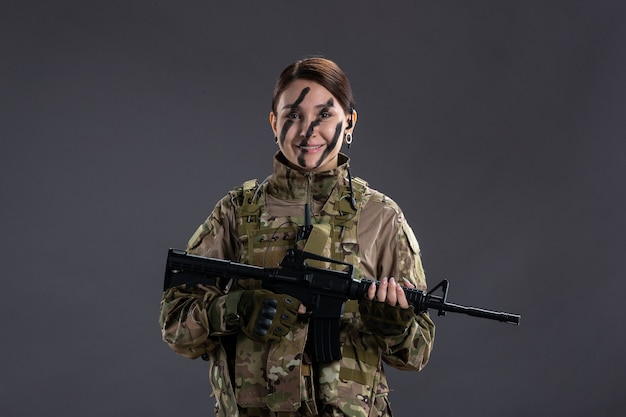gun: (162, 242, 521, 361)
